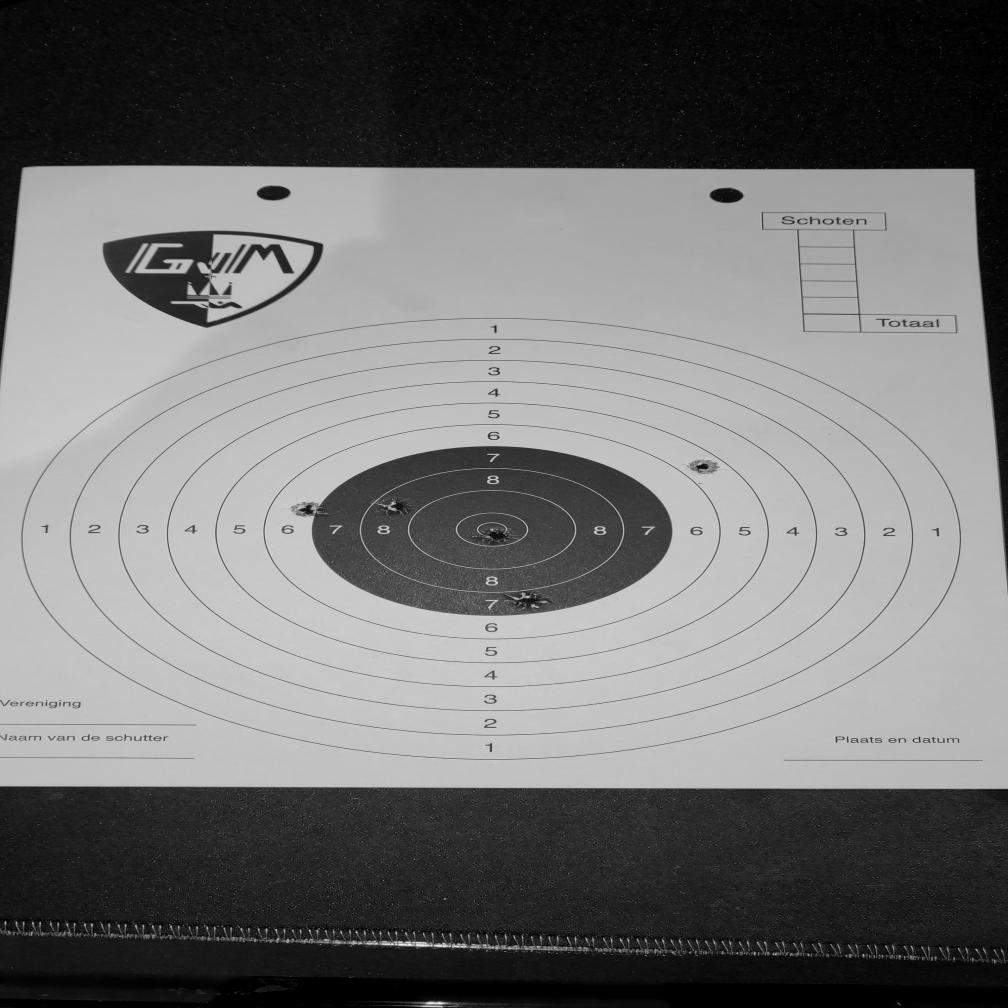10: (476, 528, 517, 546)
5: (685, 458, 721, 475)
7: (506, 591, 552, 611), (284, 501, 328, 517)
8: (373, 498, 413, 517)
Target: (20, 315, 967, 755)
black_contour: (313, 445, 674, 617)
